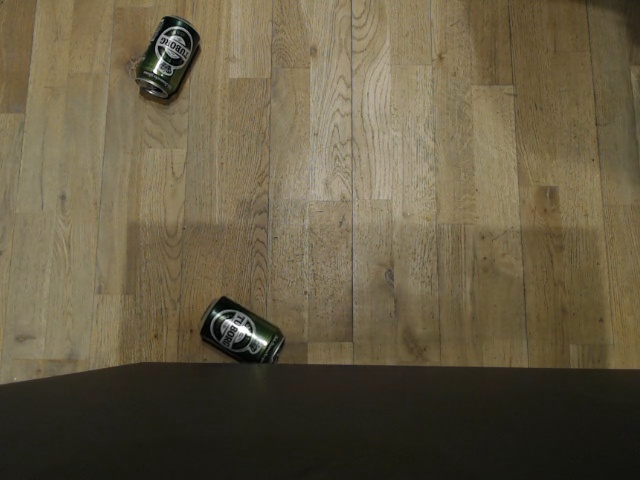beer: (196, 293, 286, 364), (132, 13, 202, 100)
